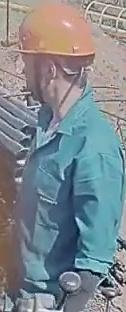helmet: (11, 1, 96, 64)
vest: (15, 78, 125, 295)
